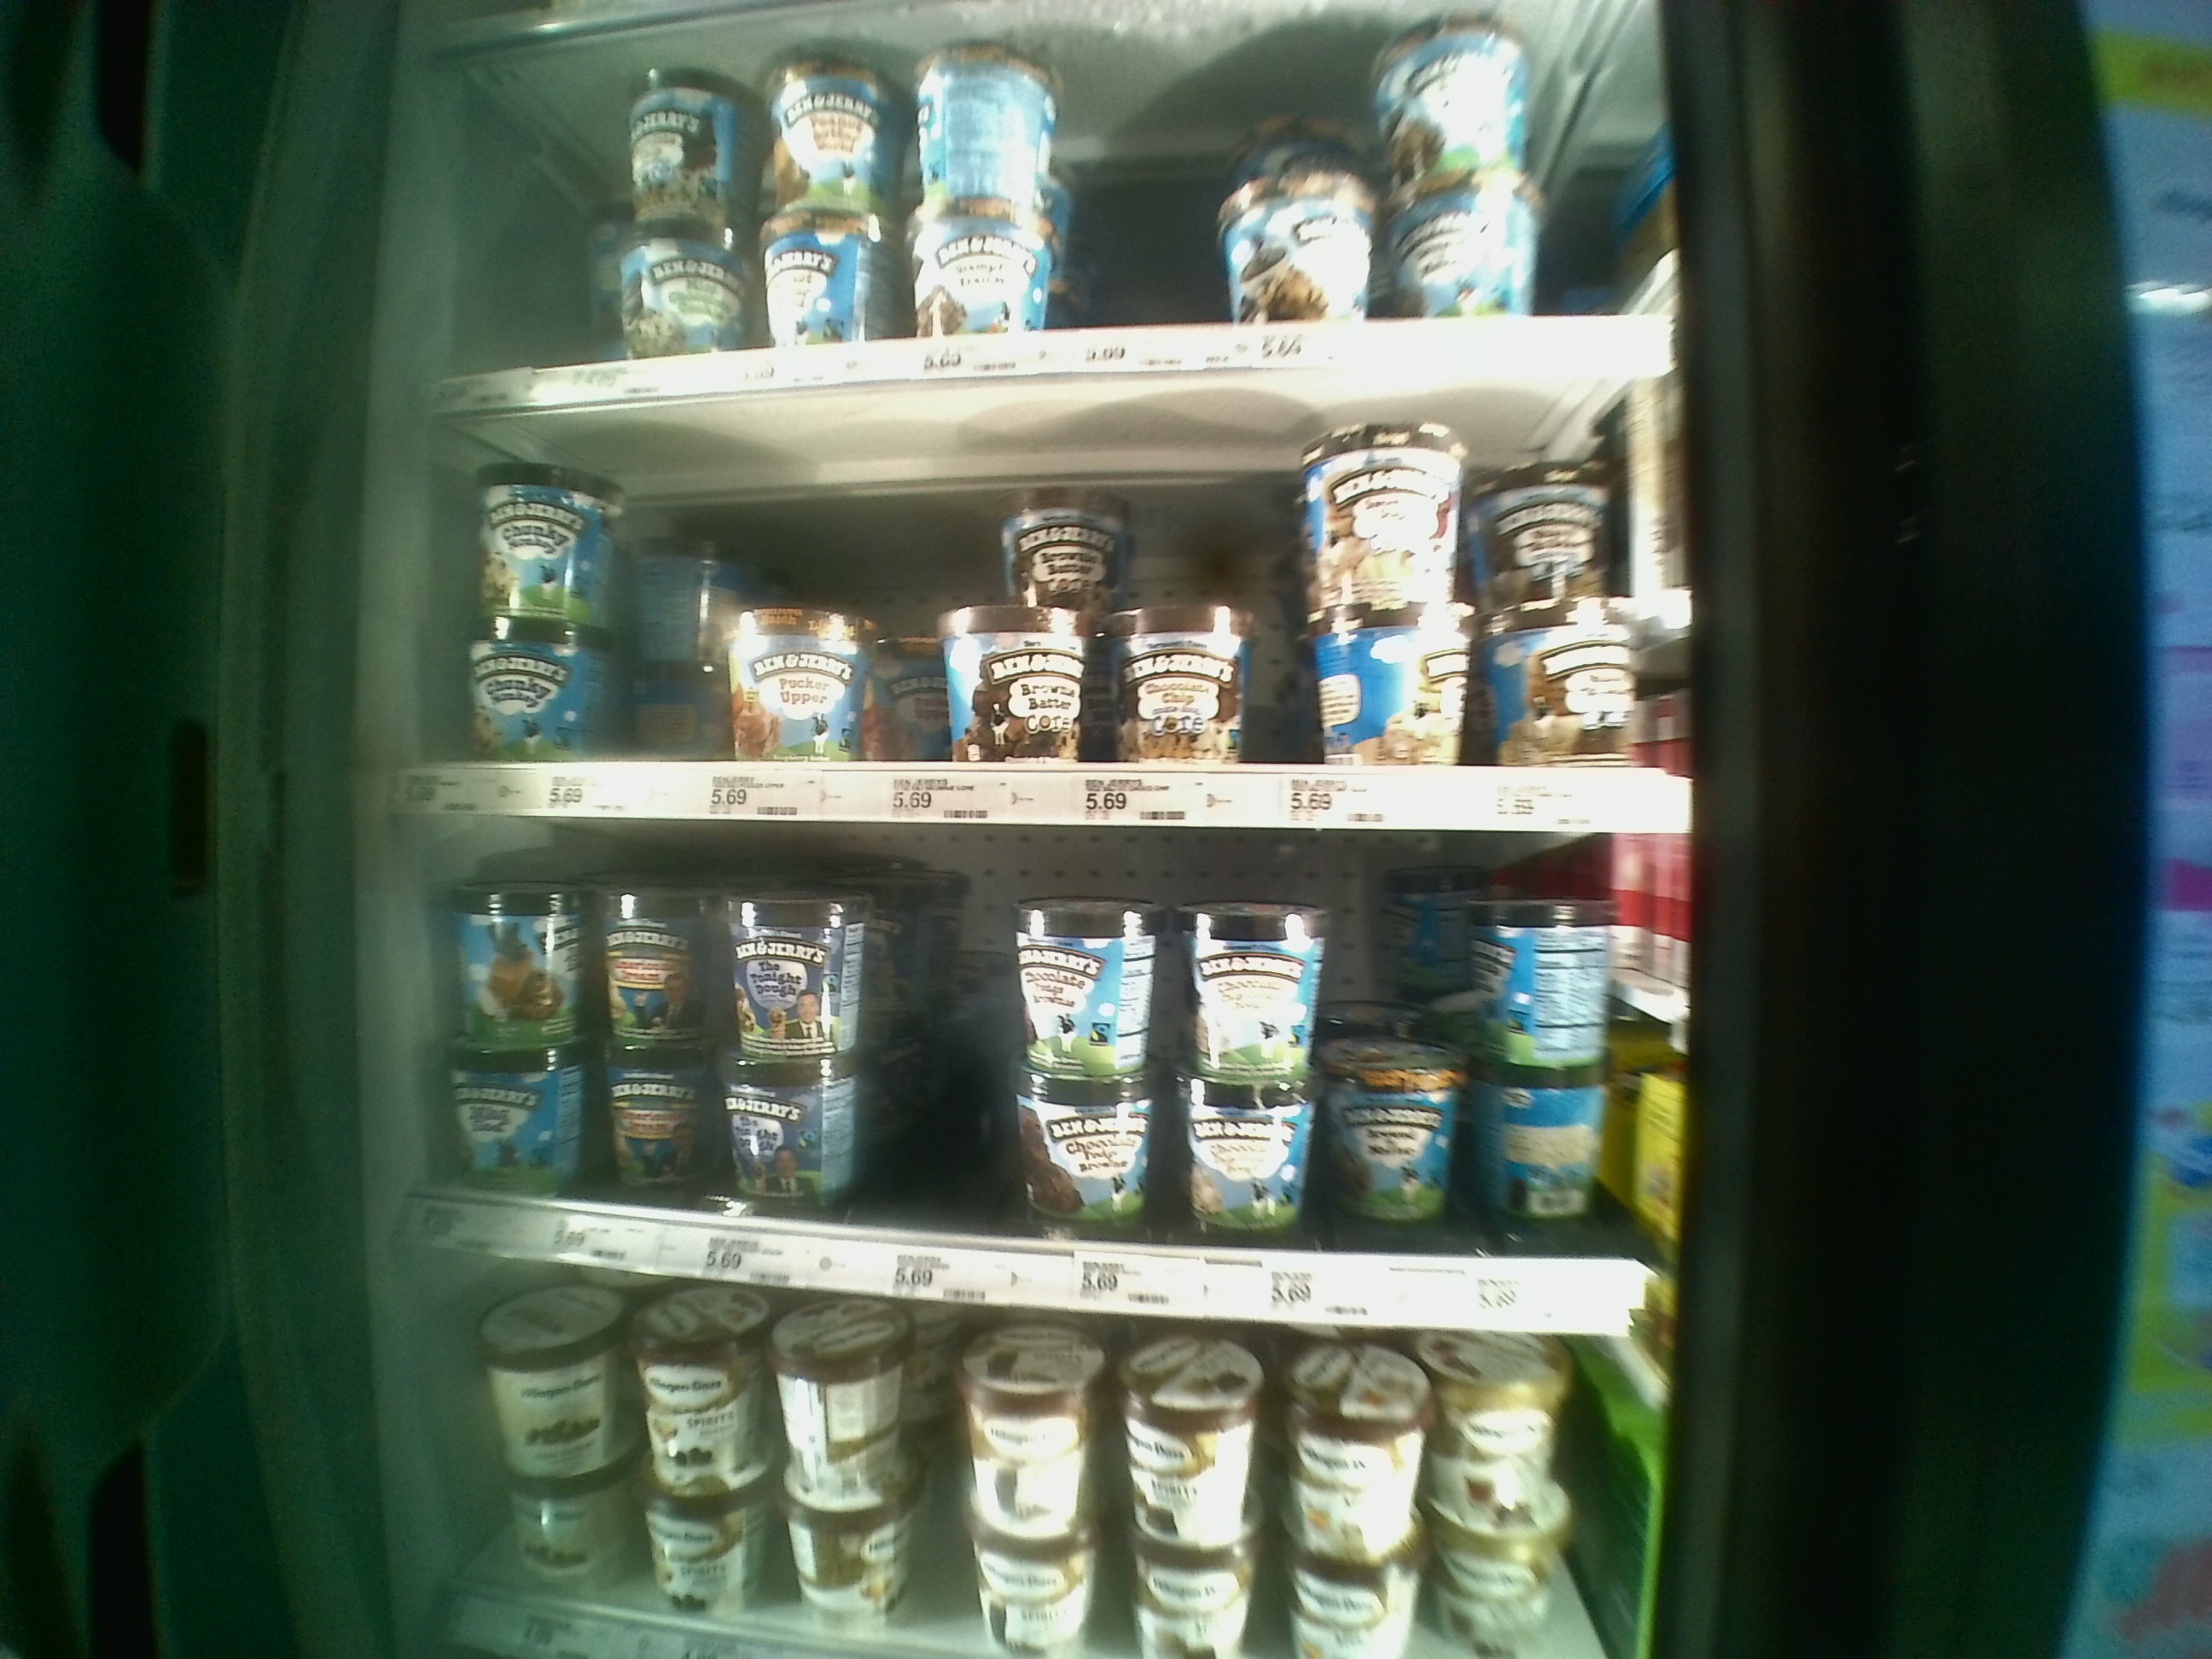ice-cream-shelf: (401, 824, 1672, 1324), (394, 396, 1691, 831)
